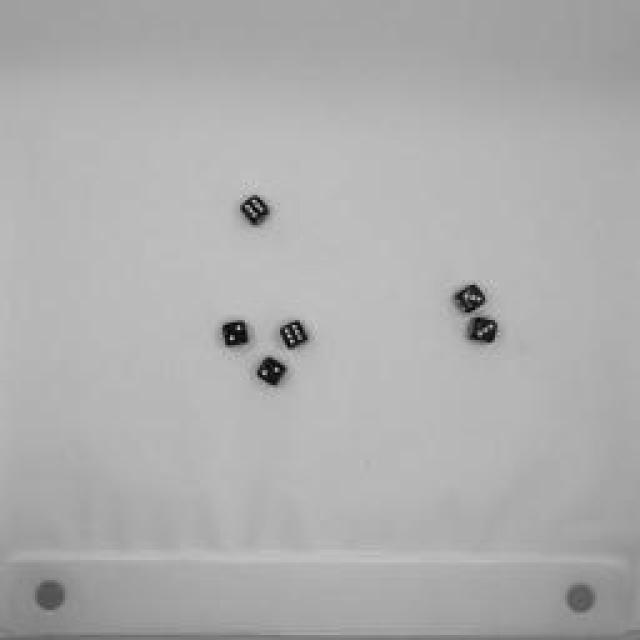dice_2: (251, 352, 291, 390), (217, 318, 255, 352)
dice_3: (462, 309, 508, 349), (451, 280, 494, 320)
dice_6: (235, 190, 277, 230), (275, 314, 315, 354)
